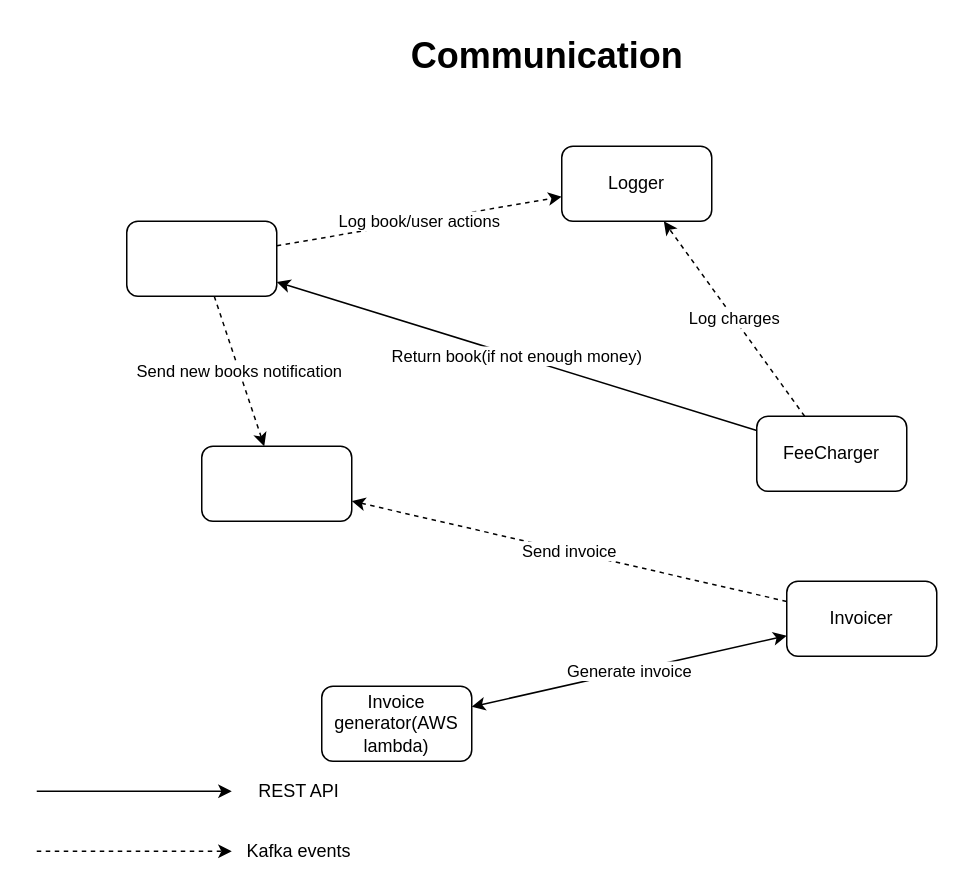
Image size: 963x891. Some labels were removed from this diagram. The shapes that lost their labels are listed below. From the top down, each one's centre as x and y in pixels, then its label:
At (x=201, y=258): "Library".
At (x=276, y=483): "MailSender".
